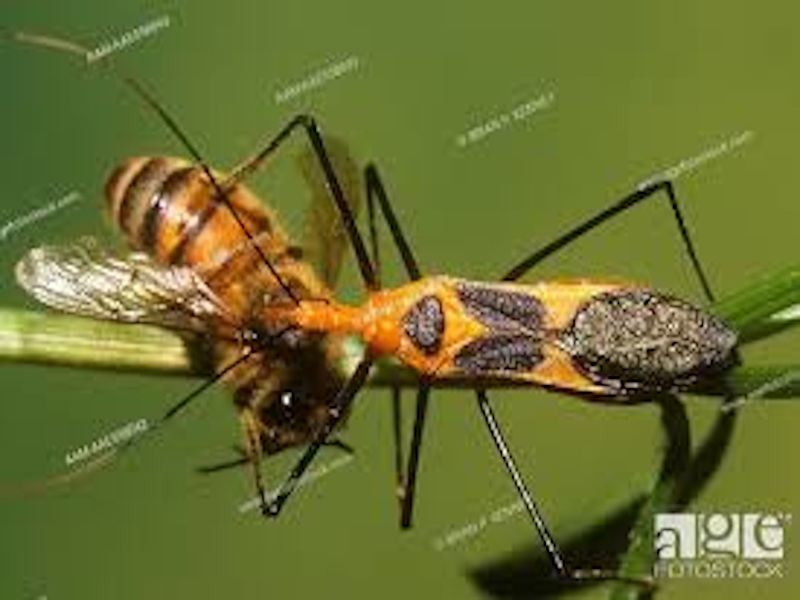abeja: (32, 107, 359, 500)
